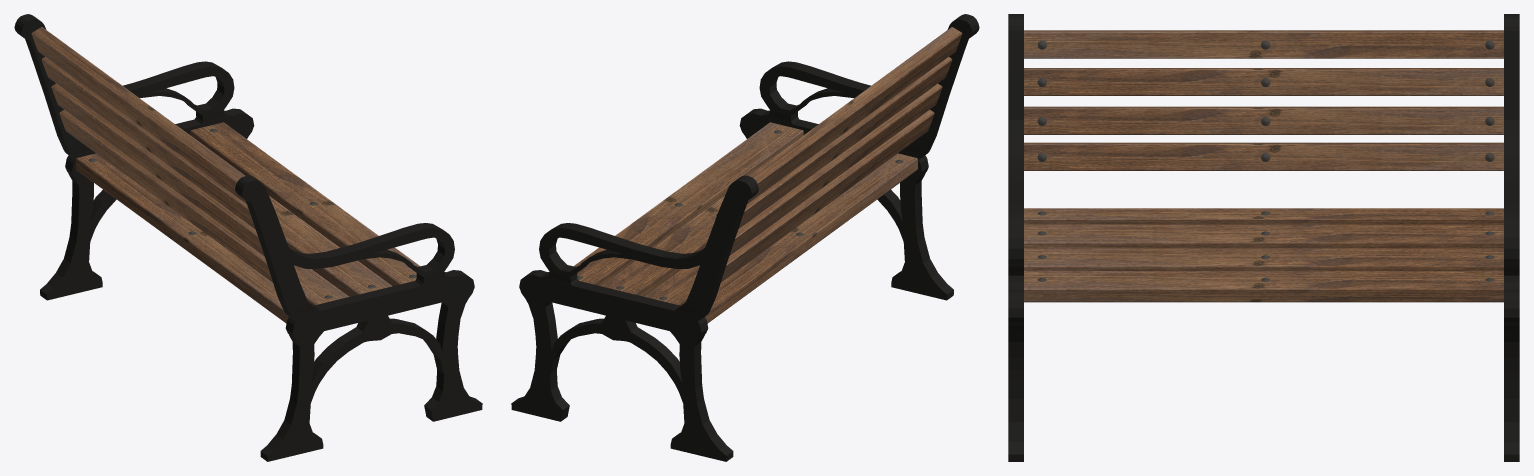
Rendered from classic__park_bench.glb.
The picture shows the model from 3 angles, left to right: view 1: azimuth 30°, elevation 25°; view 2: azimuth 150°, elevation 25°; view 3: azimuth 270°, elevation 25°; orthographic projection. The views are drawn at different scales.
Visible parts, largest first — view 1: Cube.001; view 2: Cube.001; view 3: Cube.001.
Boxes of the visible parts, x1,y1,x2,y2 form: Cube.001: [14, 14, 482, 461]; Cube.001: [511, 14, 979, 461]; Cube.001: [1008, 14, 1519, 461].
Bounding box in the file's own units: 1.19 × 1.35 × 1.95.
Materials: 1 (1 with a texture image).
